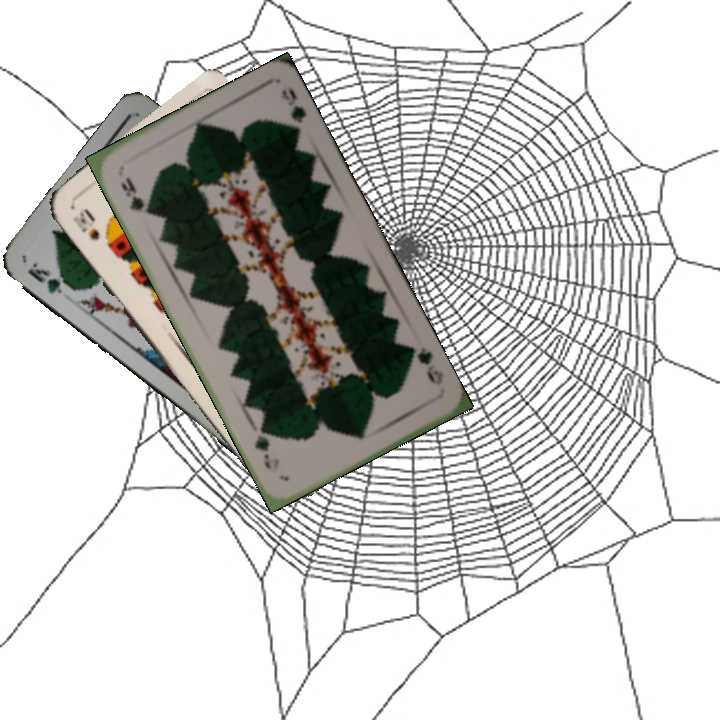G9: (404, 343, 446, 388), (117, 172, 153, 217)
GK: (23, 258, 77, 297)
S10: (68, 208, 102, 244)
